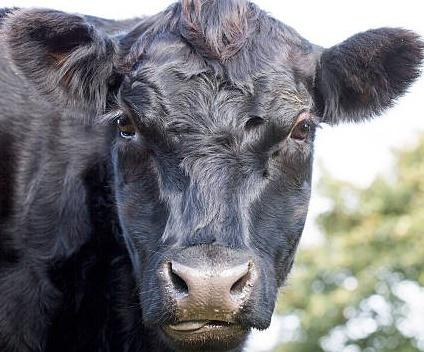muzzles: (136, 248, 278, 347)
